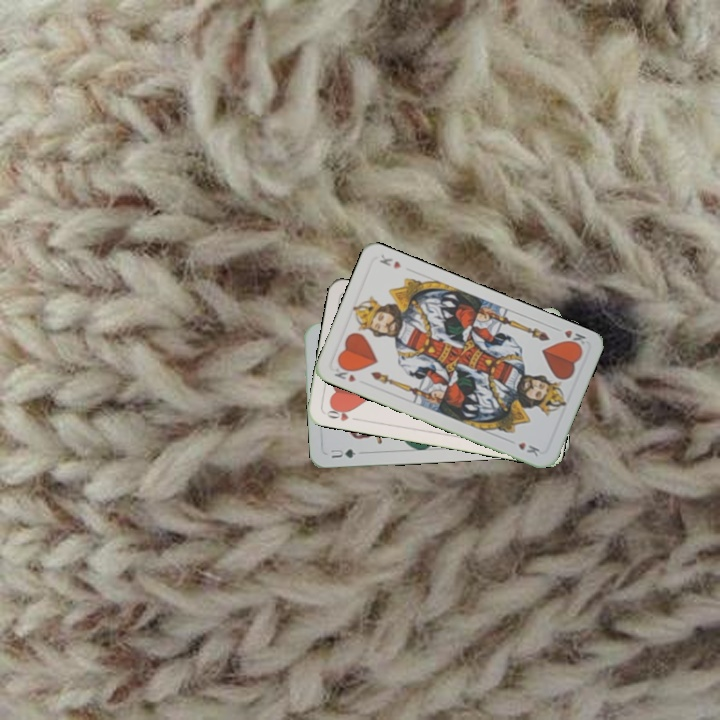GU: (327, 444, 358, 461)
HK: (559, 326, 589, 351), (330, 360, 358, 385)
HO: (322, 403, 361, 424)
